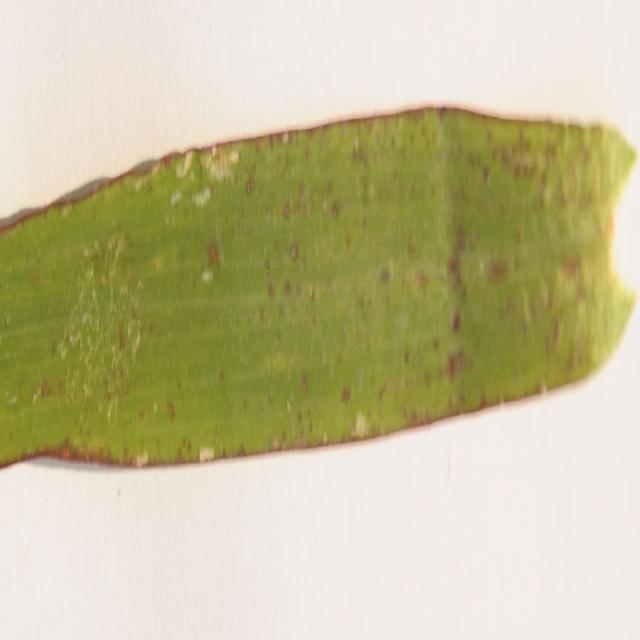Leafsmut: (85, 241, 113, 279), (204, 150, 236, 180), (264, 348, 295, 373), (509, 150, 539, 173), (559, 258, 583, 281), (486, 259, 509, 282), (605, 208, 619, 244), (519, 295, 534, 327), (446, 254, 463, 282), (452, 228, 469, 255), (175, 438, 193, 462), (352, 145, 369, 170), (206, 239, 221, 266), (536, 283, 551, 310), (157, 153, 180, 170), (149, 252, 168, 272), (109, 235, 126, 257), (193, 187, 212, 206), (180, 152, 196, 174), (541, 183, 554, 208), (353, 410, 368, 431), (37, 380, 54, 398), (450, 309, 462, 332), (448, 353, 460, 376), (116, 328, 128, 350), (149, 160, 163, 178), (434, 105, 452, 119), (199, 447, 215, 462), (417, 271, 429, 290), (245, 175, 256, 195), (379, 268, 392, 284), (136, 450, 149, 466), (69, 330, 82, 346), (406, 237, 416, 257), (330, 200, 341, 218), (166, 400, 176, 419), (344, 231, 354, 250), (289, 244, 300, 261), (200, 269, 213, 283), (282, 201, 292, 219), (131, 332, 141, 350), (170, 190, 182, 205), (477, 392, 488, 408), (341, 386, 351, 403), (266, 282, 276, 299), (58, 342, 68, 359), (227, 152, 240, 165), (300, 373, 309, 391), (352, 134, 361, 152), (282, 280, 292, 296), (86, 266, 96, 282), (132, 178, 144, 191), (61, 446, 73, 459), (210, 144, 220, 159), (498, 396, 508, 410), (81, 312, 91, 326), (217, 370, 226, 385), (7, 393, 18, 405), (285, 396, 293, 412), (281, 132, 291, 144), (237, 444, 247, 456), (82, 246, 92, 257), (539, 382, 548, 394), (272, 438, 281, 449), (403, 351, 410, 365), (60, 207, 68, 217), (31, 392, 38, 403), (322, 432, 328, 444), (5, 315, 12, 324), (152, 402, 158, 412)
